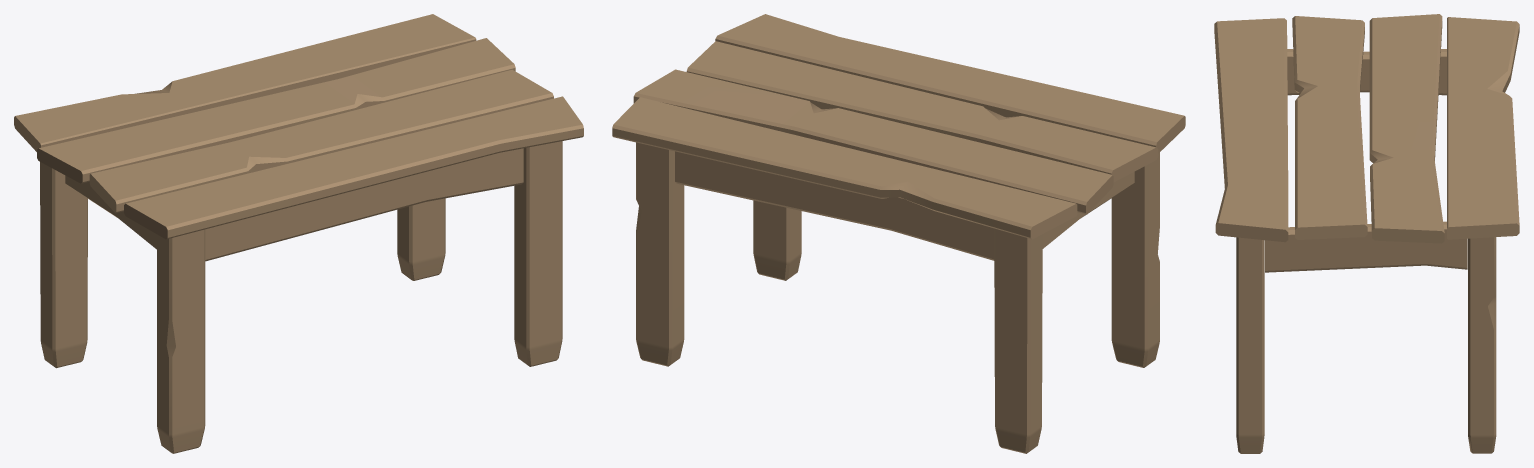
The model's file is Table (1).fbx.
The picture shows the model from 3 angles, left to right: view 1: azimuth 30°, elevation 25°; view 2: azimuth 150°, elevation 25°; view 3: azimuth 270°, elevation 25°; orthographic projection.
Visible parts, largest first — view 1: pCube1, pCube7, pCube6, pCube8, pCube12, pCube15, pCube17, pCube19, pCube18, pCube16; view 2: pCube8, pCube7, pCube6, pCube1, pCube19, pCube13, pCube18, pCube12, pCube17, pCube16; view 3: pCube7, pCube6, pCube1, pCube8, pCube18, pCube17, pCube14, pCube16.
Boxes of the visible parts, bbox=[...] form: pCube1: bbox=[124, 96, 583, 239]; pCube7: bbox=[37, 38, 515, 183]; pCube6: bbox=[89, 69, 553, 213]; pCube8: bbox=[14, 14, 476, 151]; pCube12: bbox=[157, 229, 205, 453]; pCube15: bbox=[205, 148, 523, 261]; pCube17: bbox=[514, 141, 562, 366]; pCube19: bbox=[40, 162, 87, 368]; pCube18: bbox=[397, 198, 445, 280]; pCube16: bbox=[65, 175, 156, 249]; pCube8: bbox=[612, 97, 1077, 239]; pCube7: bbox=[633, 69, 1113, 214]; pCube6: bbox=[686, 41, 1158, 182]; pCube1: bbox=[715, 14, 1185, 153]; pCube19: bbox=[994, 228, 1042, 453]; pCube13: bbox=[675, 151, 994, 260]; pCube18: bbox=[636, 142, 684, 366]; pCube12: bbox=[1111, 152, 1159, 367]; pCube17: bbox=[753, 200, 801, 280]; pCube16: bbox=[1042, 172, 1134, 248]; pCube7: bbox=[1369, 14, 1444, 243]; pCube6: bbox=[1292, 16, 1367, 239]; pCube1: bbox=[1214, 18, 1288, 242]; pCube8: bbox=[1447, 17, 1519, 239]; pCube18: bbox=[1468, 237, 1496, 453]; pCube17: bbox=[1236, 237, 1264, 453]; pCube14: bbox=[1265, 221, 1467, 272]; pCube16: bbox=[1287, 49, 1446, 95].
Size of the model in its own units: 1.77 by 0.904 by 1.05.
